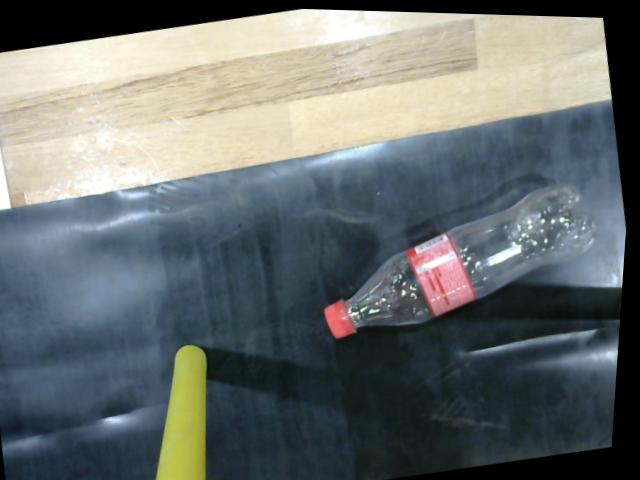bottle: (328, 166, 611, 341)
